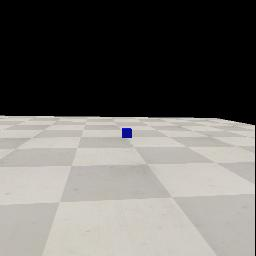box: (122, 128, 132, 138)
